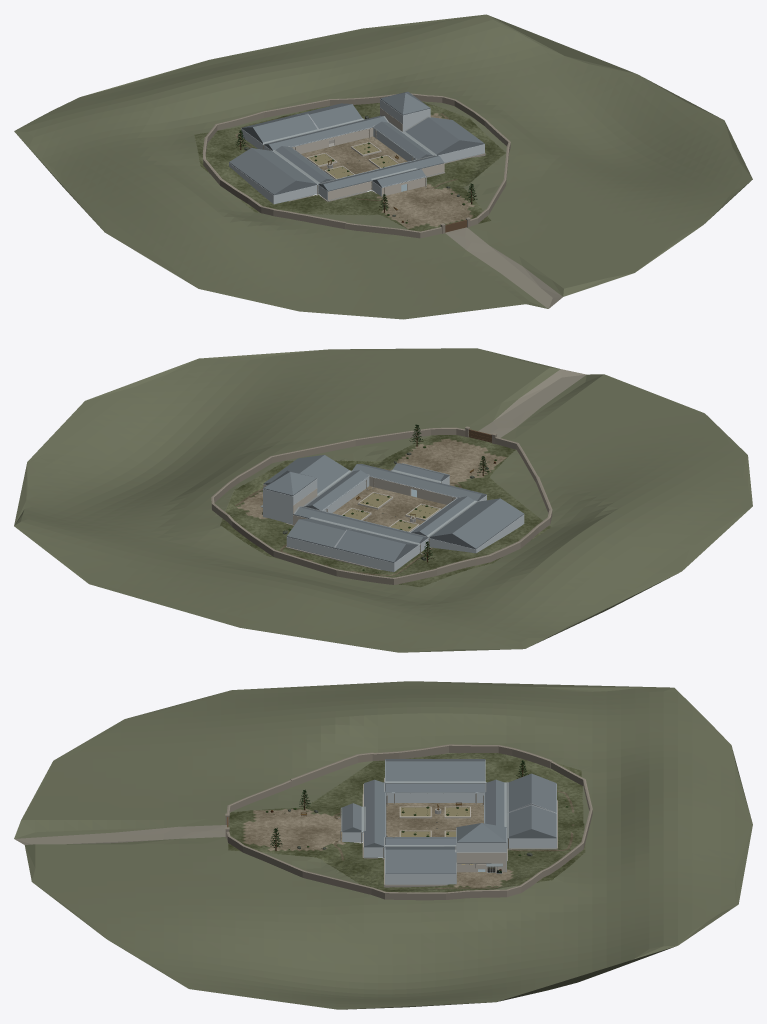
File: monastery-with-perimeter.glb
3 renders of one model, top to bottom at view 1: azimuth 30°, elevation 25°; view 2: azimuth 150°, elevation 25°; view 3: azimuth 270°, elevation 25°, orthographic. The views are drawn at different scales.
Visible parts, largest first — view 1: Monastery fitted exterior terrain, WLD-10 surveyed drainage ground finished, dormitory roof west, archive roof south, refectory roof west, south-cloister roof south, north-cloister roof south, vestry roof south, dormitory roof east, Monastery estate bank masonry 21, Monastery estate gate masonry 20, east-cloister roof west (+1 smaller); view 2: Monastery fitted exterior terrain, WLD-10 surveyed drainage ground finished, dormitory roof west, archive roof north, south-cloister roof north, vestry roof north, north-cloister roof north, refectory roof west, dormitory roof east, east-cloister roof west, Wall archive N, Monastery estate gate masonry 15 (+2 smaller); view 3: Monastery fitted exterior terrain, WLD-10 surveyed drainage ground finished, dormitory roof east, refectory roof east, Wall west E, west-cloister roof east, archive roof north, Wall refectory E, south-cloister roof north, archive roof south, south-cloister roof south, vestry roof north (+3 smaller).
Boxes of the visible parts, x1,y1,x2,y2 form: Monastery fitted exterior terrain: [14, 14, 752, 319]; WLD-10 surveyed drainage ground finished: [194, 101, 505, 231]; dormitory roof west: [229, 148, 295, 194]; archive roof south: [252, 114, 317, 142]; refectory roof west: [405, 117, 459, 154]; south-cloister roof south: [323, 156, 444, 191]; north-cloister roof south: [268, 116, 387, 150]; vestry roof south: [309, 104, 362, 128]; dormitory roof east: [252, 148, 316, 184]; Monastery estate bank masonry 21: [273, 209, 346, 229]; Monastery estate gate masonry 20: [346, 222, 420, 238]; east-cloister roof west: [374, 121, 426, 158]; Monastery fitted exterior terrain: [14, 348, 752, 652]; WLD-10 surveyed drainage ground finished: [220, 435, 550, 587]; dormitory roof west: [452, 498, 524, 548]; archive roof north: [335, 530, 405, 562]; south-cloister roof north: [352, 464, 481, 501]; vestry roof north: [287, 519, 345, 547]; north-cloister roof north: [293, 507, 423, 544]; refectory roof west: [299, 455, 349, 493]; dormitory roof east: [430, 498, 499, 537]; east-cloister roof west: [312, 470, 368, 510]; Wall archive N: [334, 548, 393, 571]; Monastery estate gate masonry 15: [355, 428, 430, 446]; Monastery fitted exterior terrain: [14, 681, 752, 1009]; WLD-10 surveyed drainage ground finished: [228, 753, 585, 892]; dormitory roof east: [385, 761, 485, 781]; refectory roof east: [385, 849, 456, 874]; Wall west E: [386, 793, 483, 802]; west-cloister roof east: [385, 784, 485, 792]; archive roof north: [531, 773, 556, 812]; Wall refectory E: [385, 874, 456, 884]; south-cloister roof north: [374, 780, 385, 846]; archive roof south: [509, 773, 531, 811]; south-cloister roof south: [364, 779, 374, 846]; vestry roof north: [531, 805, 556, 837].
Size of the model in its own units: 212 by 23.03 by 207.
Materials: 211 (155 with a texture image).
